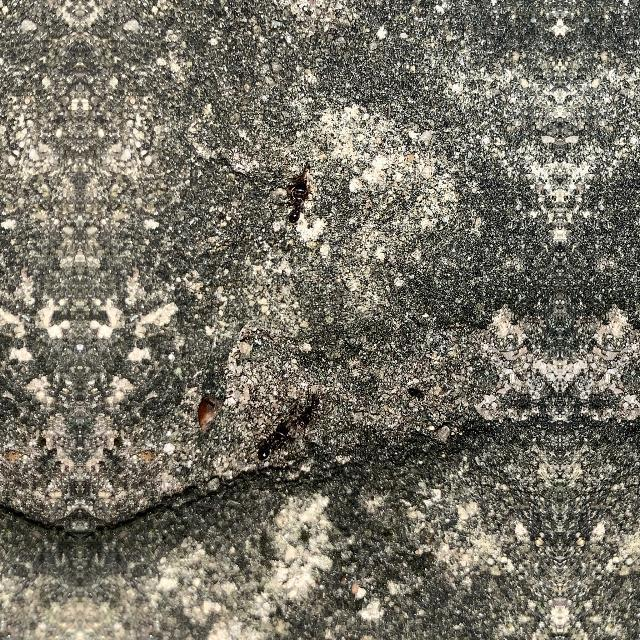Tetramorium: (280, 171, 310, 229)
